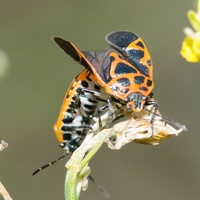insect: (54, 31, 185, 199)
